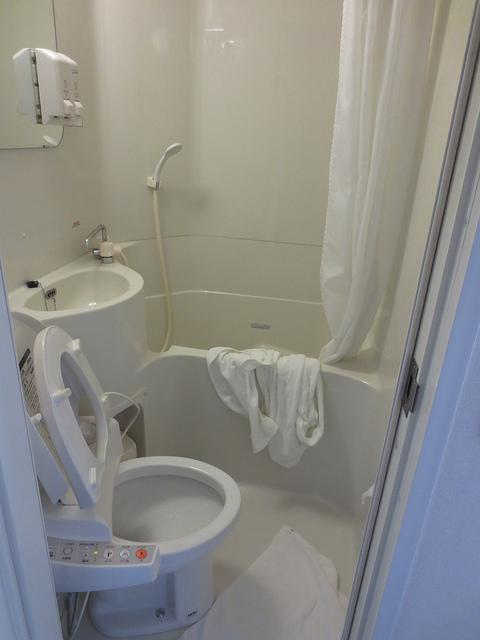Lavamanos: (6, 234, 142, 399)
Sanitario: (0, 316, 243, 638)
